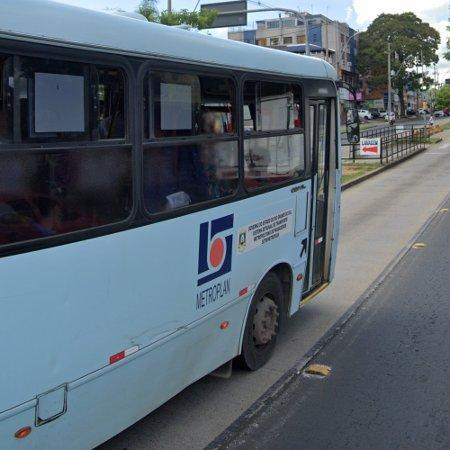buses: (0, 0, 342, 450)
